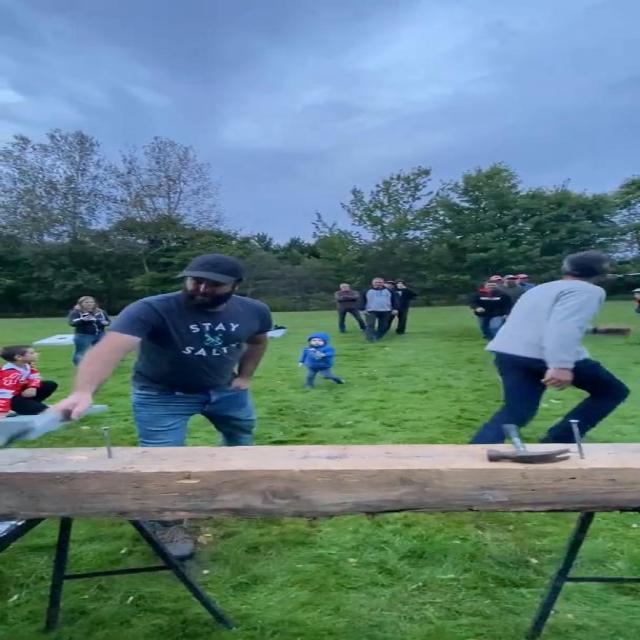hammer: (487, 421, 576, 468)
